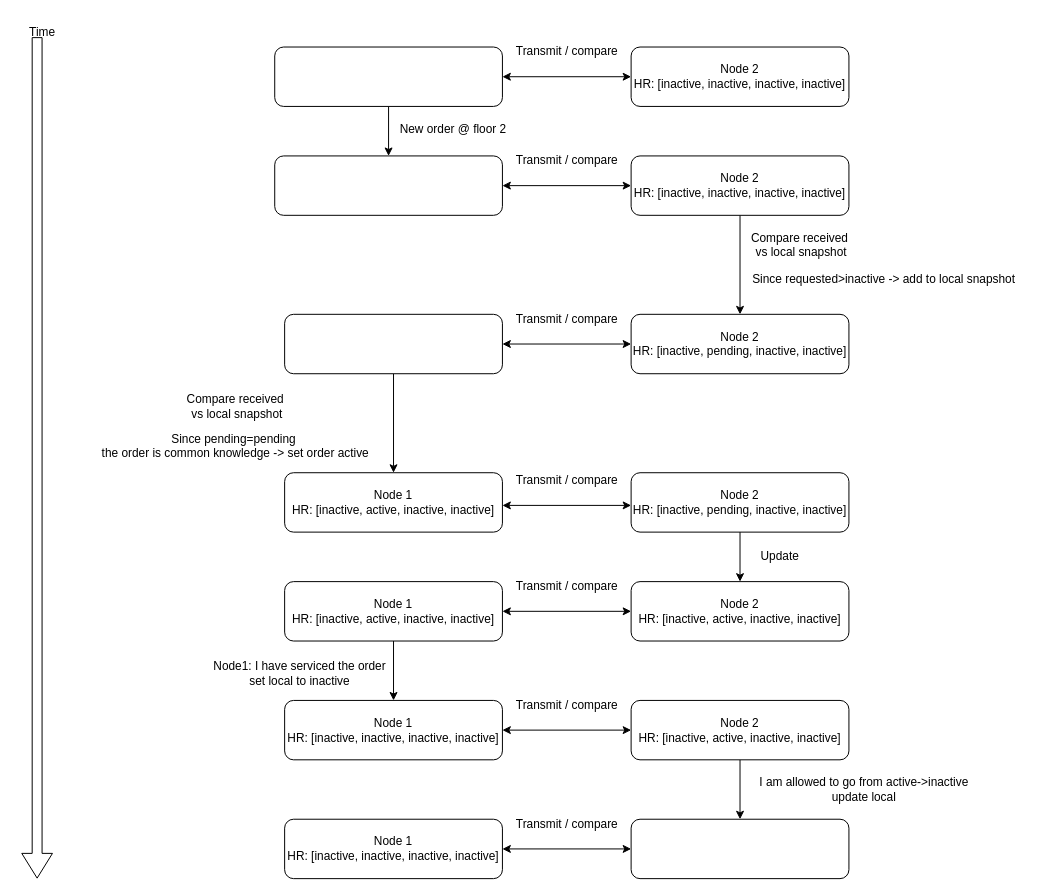
Image size: 1043x896. Some labels were removed from this diagram. Here are the shapes that lost their labels. From the top down, the centre of each, then its label:
At pixel 388 76: "Node 1 HR: [inactive, inactive, inactive, inactive ]".
At pixel 388 185: "Node 1 HR: [ inactive, requested, inactive, inactive ]".
At pixel 393 343: "Node 1 HR: [ inactive, pending, inactive, inactive ]".
At pixel 739 848: "Node 2 HR: [ inactive, inactive, inactive, inactive ]".
